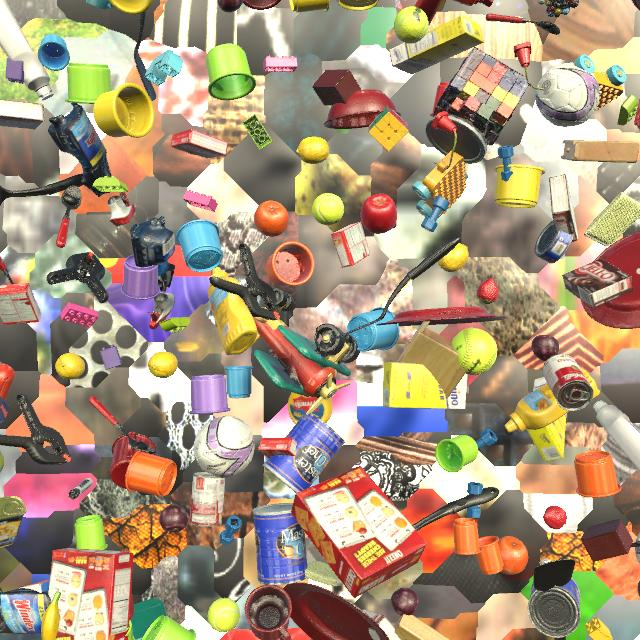ycb_002_master_chef_can: (263, 411, 345, 493), (253, 503, 308, 585), (528, 577, 581, 638)
ycb_003_cracker_box: (291, 466, 427, 598), (48, 548, 134, 640)
ycb_004_sugar_box: (389, 15, 484, 74), (383, 362, 467, 409), (527, 377, 567, 462)
ycb_005_tomato_soup_can: (543, 354, 594, 411), (189, 472, 225, 527)
ycb_006_mustard_bottle: (504, 367, 600, 433), (208, 267, 258, 355), (288, 358, 337, 425)
ycb_007_tuna_fish_can: (534, 220, 574, 264)
ycb_008_pudding_box: (562, 259, 633, 308), (549, 174, 578, 242), (0, 100, 45, 129), (362, 609, 400, 640)
ycb_009_gelatin_box: (331, 221, 370, 268), (0, 283, 41, 325), (171, 129, 228, 158), (258, 438, 297, 459), (634, 99, 640, 131)
ycb_010_potted_meat_can: (0, 496, 27, 548)
ycb_011_banana: (41, 591, 61, 640)
ycb_012_strawberry: (543, 506, 567, 530), (477, 278, 499, 304)
ycb_013_apple: (361, 194, 397, 234)
ycb_014_lemon: (438, 243, 469, 272), (296, 137, 329, 164), (55, 353, 85, 380), (148, 351, 178, 378)
ycb_016_pear: (0, 452, 4, 472)
ycb_017_orange: (254, 201, 289, 237), (498, 536, 528, 575)
ycb_018_plum: (391, 587, 419, 616), (159, 504, 188, 532), (531, 335, 559, 361), (218, 0, 244, 13), (638, 581, 640, 597)
